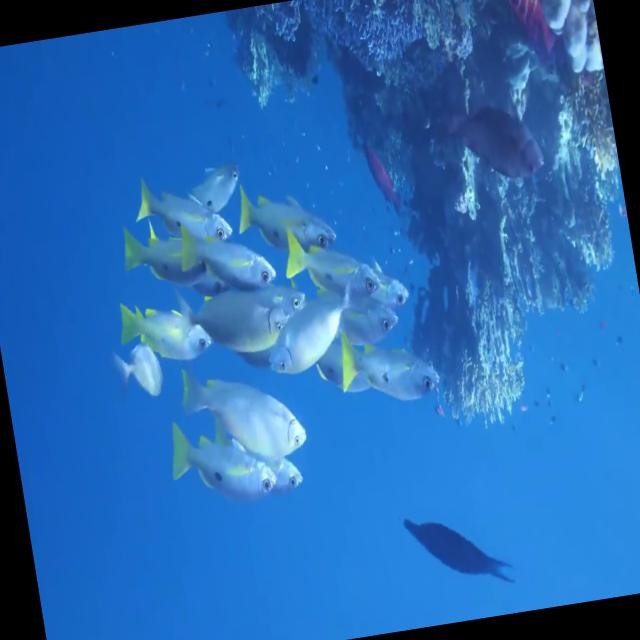fish: (180, 344, 312, 476), (256, 271, 367, 379), (167, 413, 282, 510), (436, 92, 548, 190), (407, 506, 518, 604), (334, 318, 441, 416), (176, 272, 294, 358), (128, 166, 238, 257), (281, 215, 382, 308), (236, 169, 338, 261), (120, 287, 216, 365), (120, 216, 210, 296), (111, 338, 166, 402)
